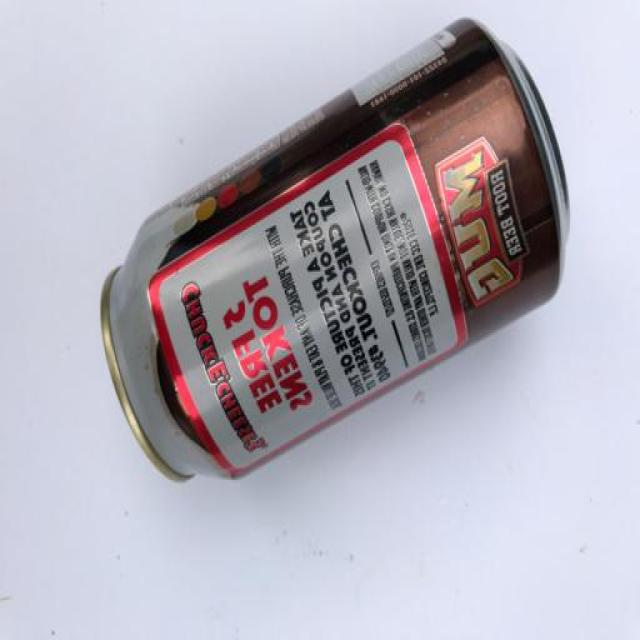Metal: (99, 18, 570, 485)
